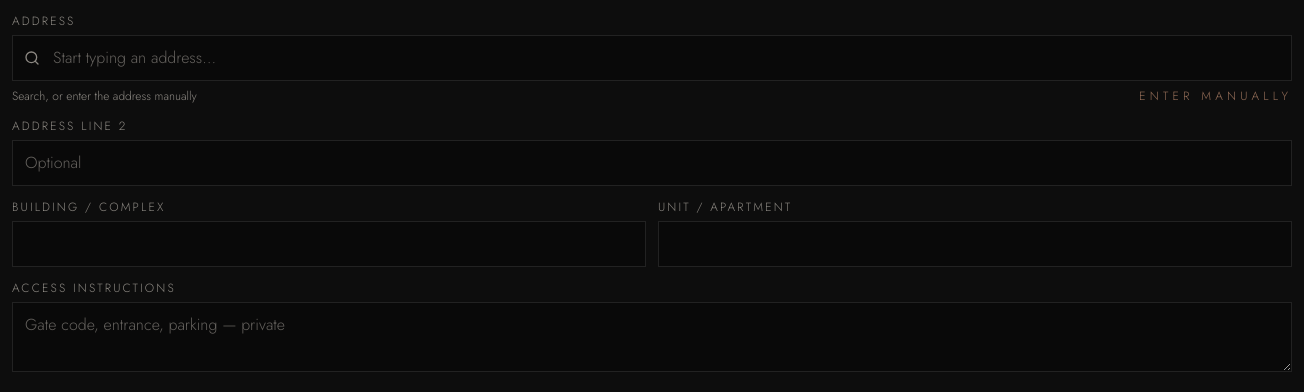
Test: AddressAutocomplete › invalidates the verified selection when the search text is edited
Type "10 Main" into the dropdown at (652, 58), box 12,35 -> 1292,81
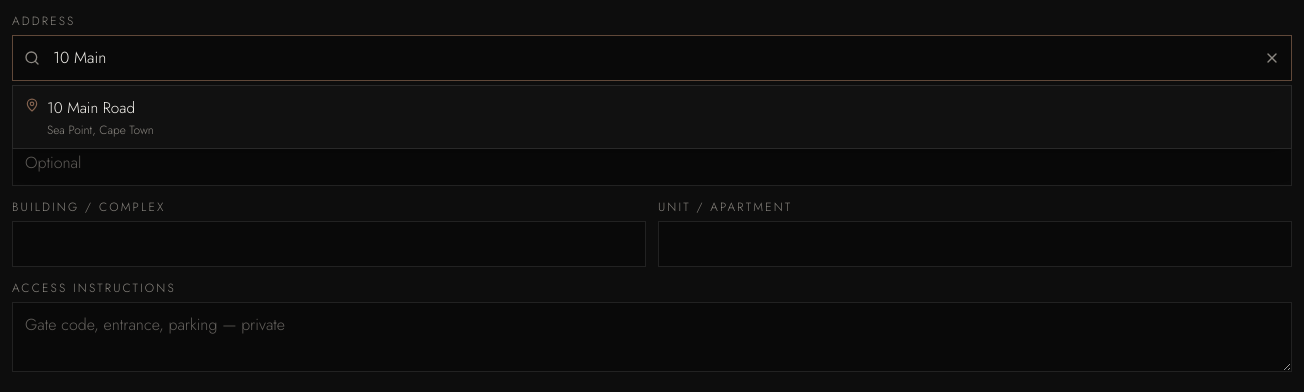
Click the option "10 Main Road Sea Point, Cape Town" at (89, 118), box 25,97 -> 154,138
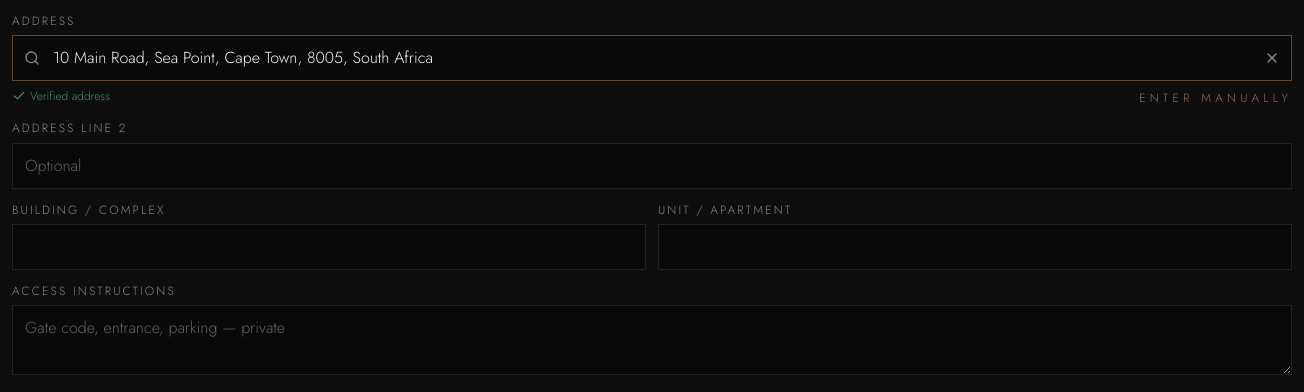
Check: the text "Verified address" is shown, box 12,87 -> 110,105
Type "x" into the dropdown at (652, 58), box 12,35 -> 1292,81
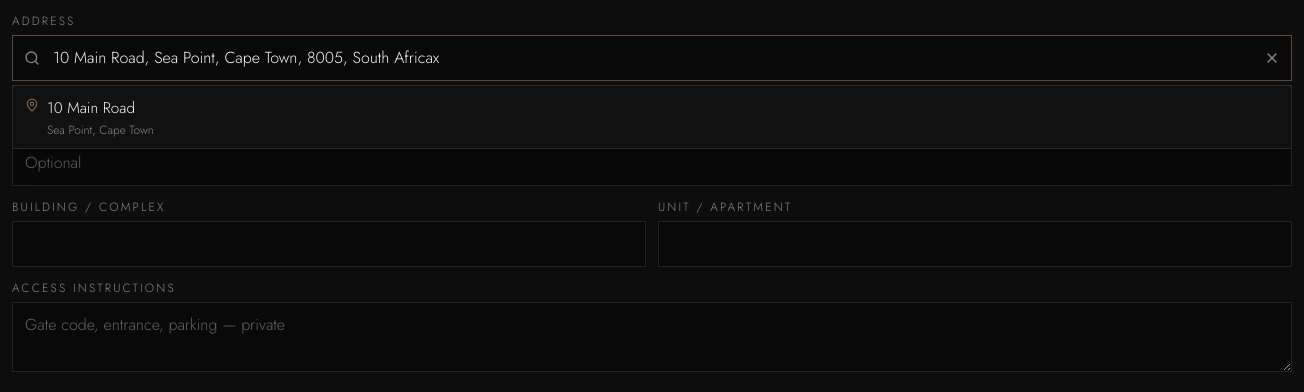
Check: the text "Verified address" is gone
